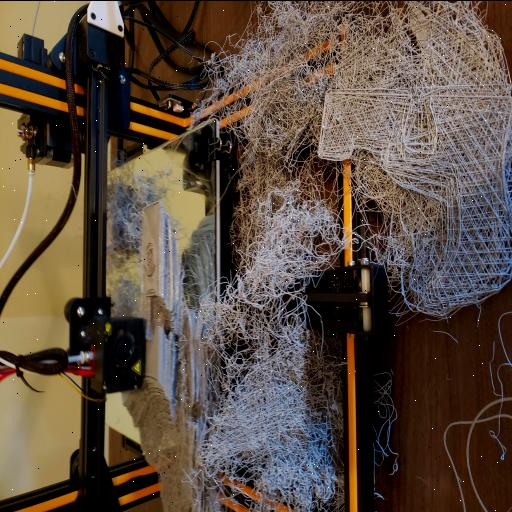spaghetti: (160, 28, 480, 426)
